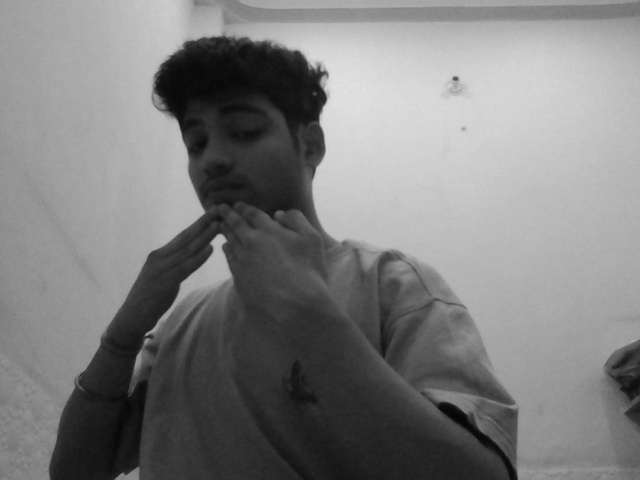Thanks: (65, 160, 379, 356)
